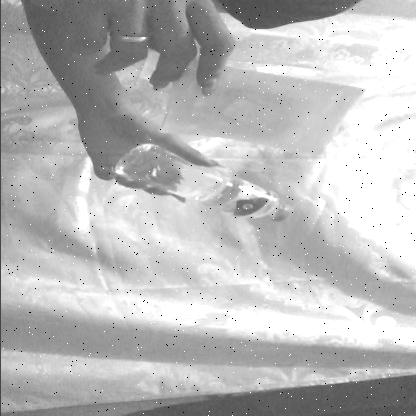Plastic Bottle: (110, 152, 304, 245)
